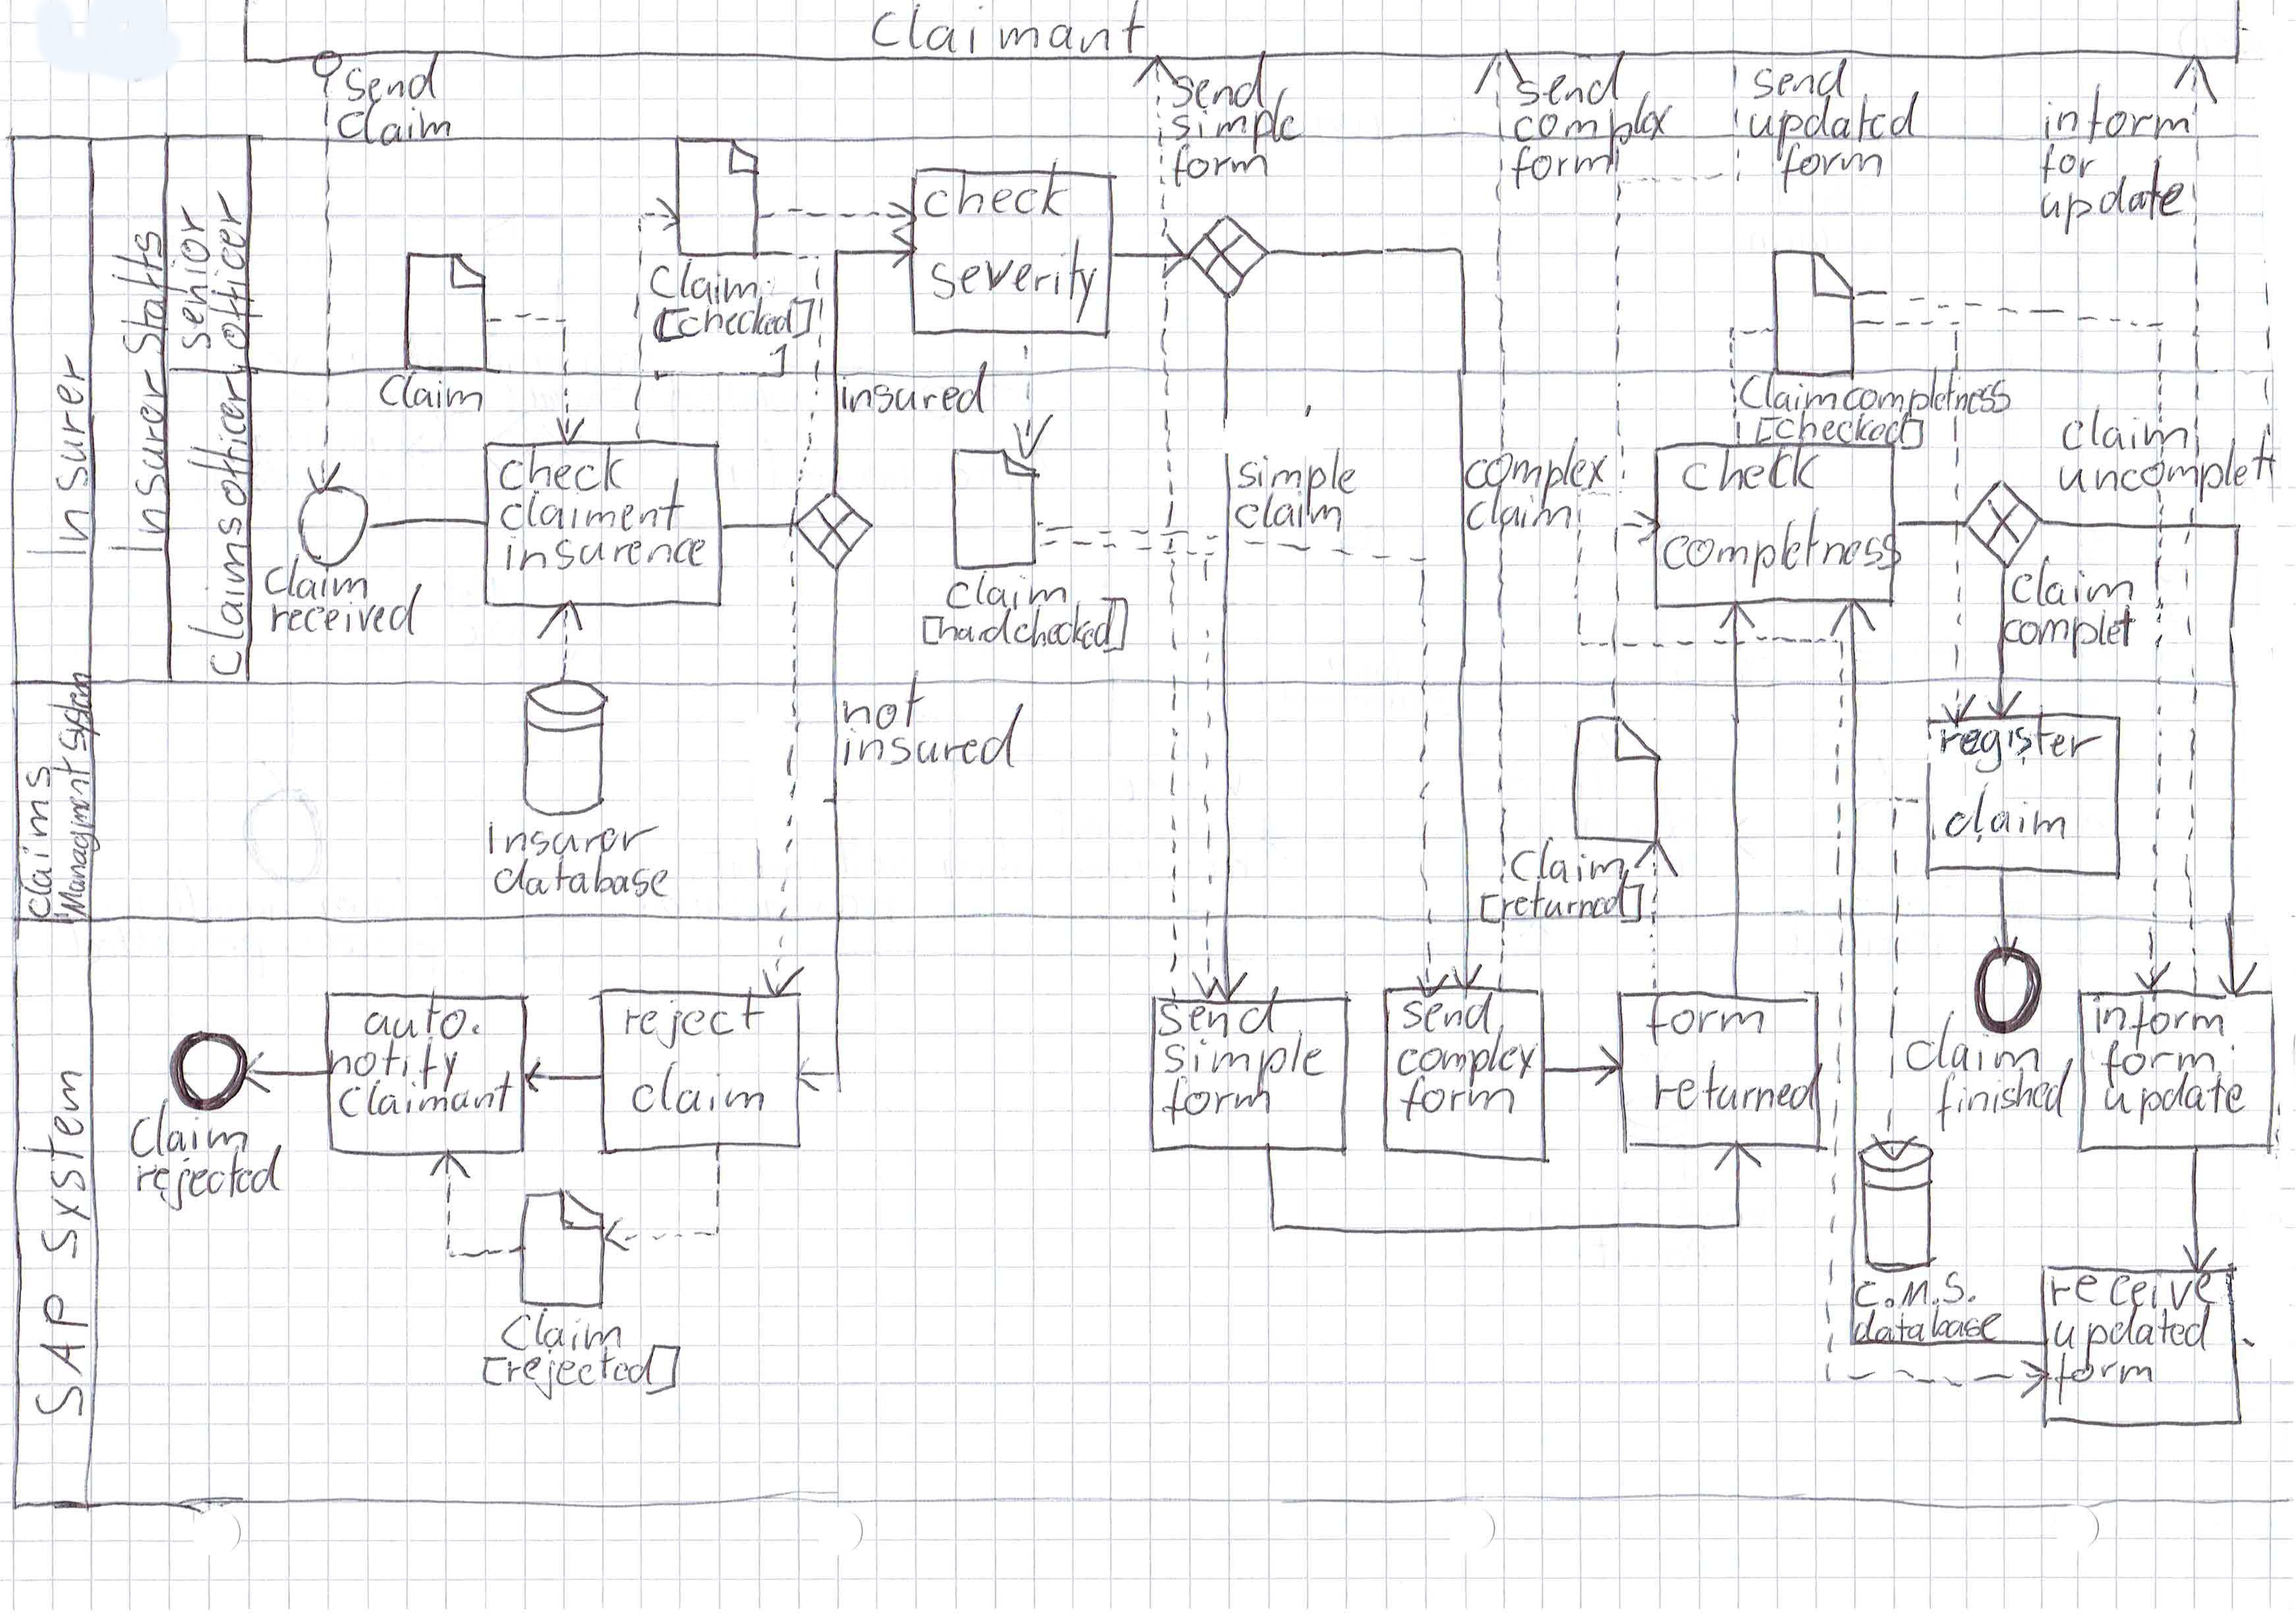C.M.S.: (1847, 1264, 1976, 1309)
Claim: (260, 559, 377, 606), (512, 1313, 632, 1356), (339, 105, 452, 148), (651, 262, 765, 302), (381, 375, 489, 414), (1743, 372, 1833, 415)
Claimant: (339, 1079, 515, 1121)
Insurer: (115, 368, 173, 560), (487, 819, 660, 859)
Management: (54, 761, 94, 909)
SAP: (30, 1290, 87, 1419)
Staffs: (112, 223, 173, 358)
System: (31, 1065, 87, 1255), (54, 669, 94, 752)
[checked]: (660, 295, 812, 344), (1751, 408, 1928, 450)
[hadchecked]: (927, 604, 1126, 653)
[rejected]: (482, 1348, 679, 1393)
[returned]: (1479, 880, 1641, 927)
auto: (374, 1007, 457, 1044)
check: (924, 169, 1074, 225), (1687, 447, 1823, 499), (501, 452, 629, 496)
claim: (1903, 1026, 2046, 1084), (129, 1096, 251, 1161), (632, 1068, 773, 1119), (1935, 796, 2073, 847), (2010, 559, 2142, 607), (2062, 412, 2202, 457), (1510, 836, 1629, 885), (1238, 494, 1350, 538), (1463, 492, 1577, 534), (950, 574, 1070, 609)
claimant: (873, 7, 1158, 58)
claiment: (501, 492, 693, 536)
claims: (190, 518, 255, 681), (17, 758, 52, 918)
complet: (1997, 611, 2139, 656)
completness: (1659, 517, 1905, 576), (1837, 377, 2015, 417)
complex: (1516, 96, 1676, 143), (1467, 443, 1606, 496), (1397, 1039, 1538, 1079)
database: (489, 859, 674, 901), (1854, 1309, 2003, 1346)
finished: (1929, 1072, 2071, 1124)
for: (2039, 143, 2095, 182)
form: (1641, 997, 1772, 1047), (1397, 1079, 1530, 1122), (1159, 1081, 1275, 1124), (1776, 143, 1884, 189), (2099, 1042, 2221, 1079), (2050, 1351, 2151, 1395), (1168, 143, 1273, 185), (1509, 143, 1613, 180)
inform: (2045, 96, 2193, 143), (2088, 1000, 2231, 1040)
insured: (838, 717, 1028, 772), (826, 372, 995, 419)
insurence: (499, 534, 709, 576)
insurer: (40, 349, 89, 566)
not: (850, 691, 927, 733)
notify: (333, 1046, 468, 1086)
officer: (204, 190, 255, 349), (199, 374, 255, 508)
receive: (2048, 1269, 2219, 1309)
received: (267, 590, 428, 637)
register: (1933, 721, 2104, 766)
reject: (620, 985, 765, 1046)
rejected: (131, 1154, 290, 1206)
returned: (1648, 1063, 1823, 1119)
send: (1512, 51, 1627, 108), (1156, 992, 1280, 1040), (337, 56, 452, 105), (1748, 58, 1851, 100), (1402, 995, 1496, 1035)
send!: (1159, 56, 1271, 106)
senior: (171, 199, 218, 353)
severity: (924, 251, 1096, 314)
simple: (1166, 1039, 1329, 1082), (1234, 454, 1357, 498), (1172, 106, 1304, 143)
uncomplet: (2057, 442, 2273, 503)
update: (2036, 164, 2186, 234), (2104, 1075, 2247, 1124)
updated: (1749, 94, 1928, 143), (2043, 1309, 2226, 1353)
